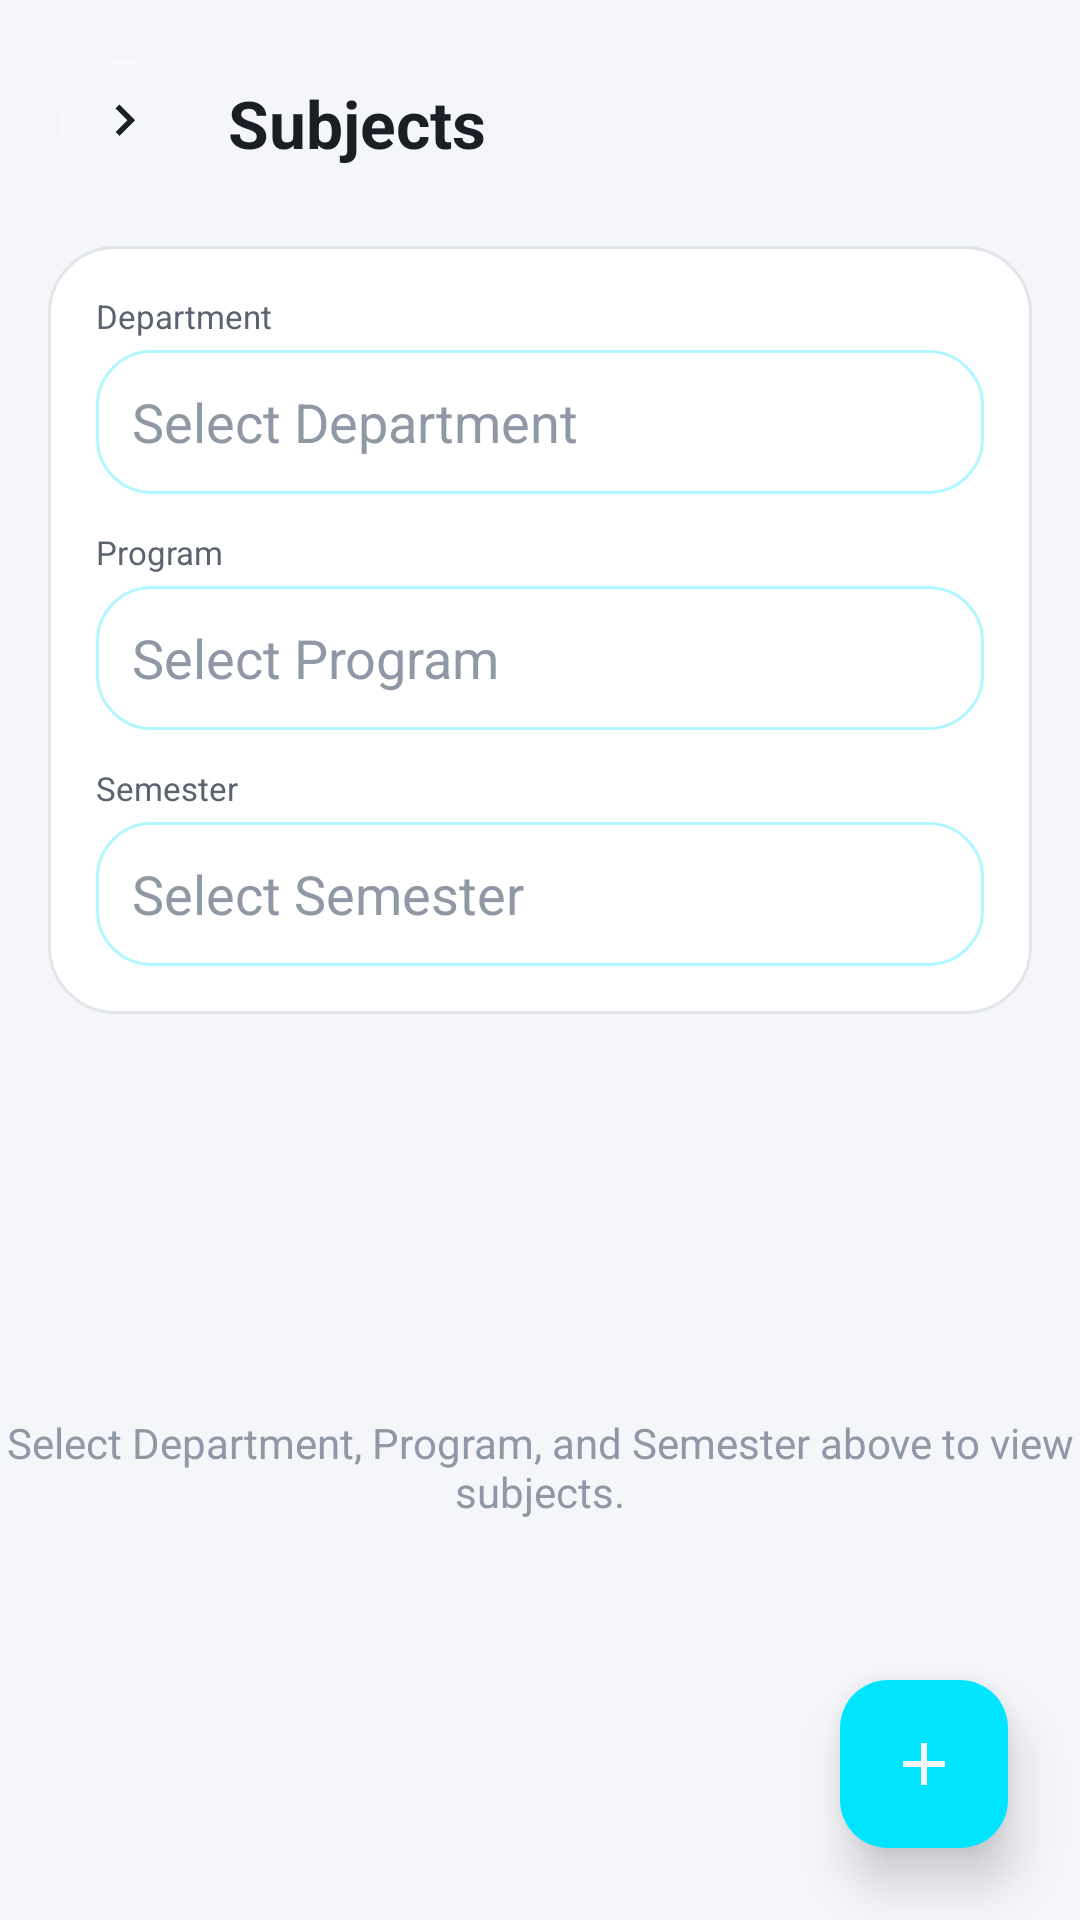

Icons on this 1080 x 1920 Android screen, each with the point to tap as (x,y):
add: (924,1764)
arrow: (125,120)
